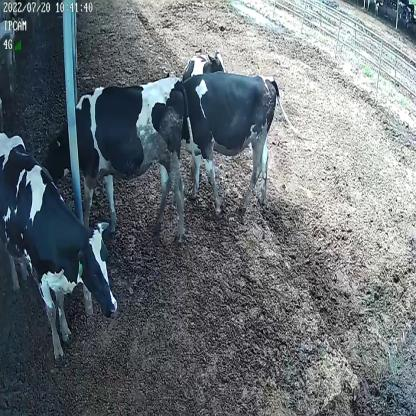cow: (0, 128, 118, 366), (45, 77, 197, 255), (176, 67, 312, 216), (183, 50, 231, 74)
